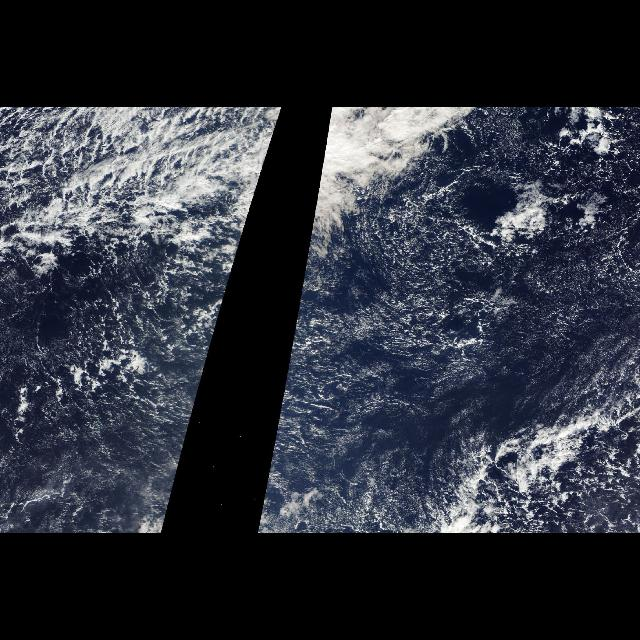Gravel: (372, 134, 632, 368), (3, 255, 239, 487), (266, 255, 358, 487)
Sugar: (303, 185, 635, 489), (6, 250, 218, 488)
